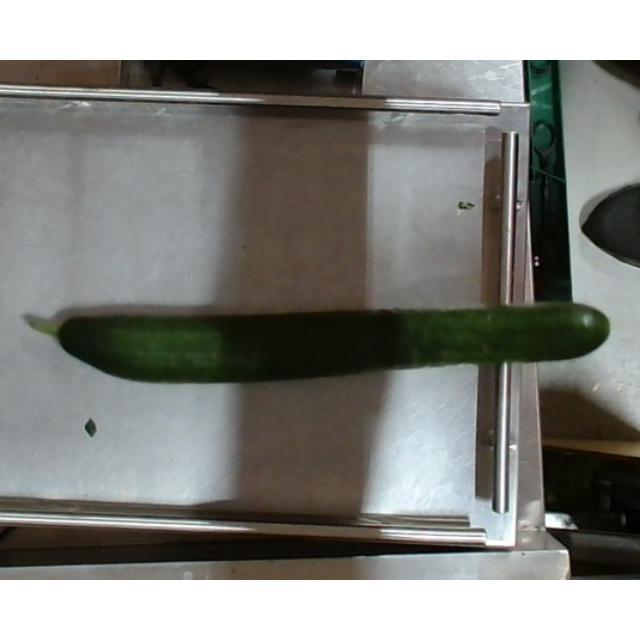cucumber: (24, 306, 608, 384)
